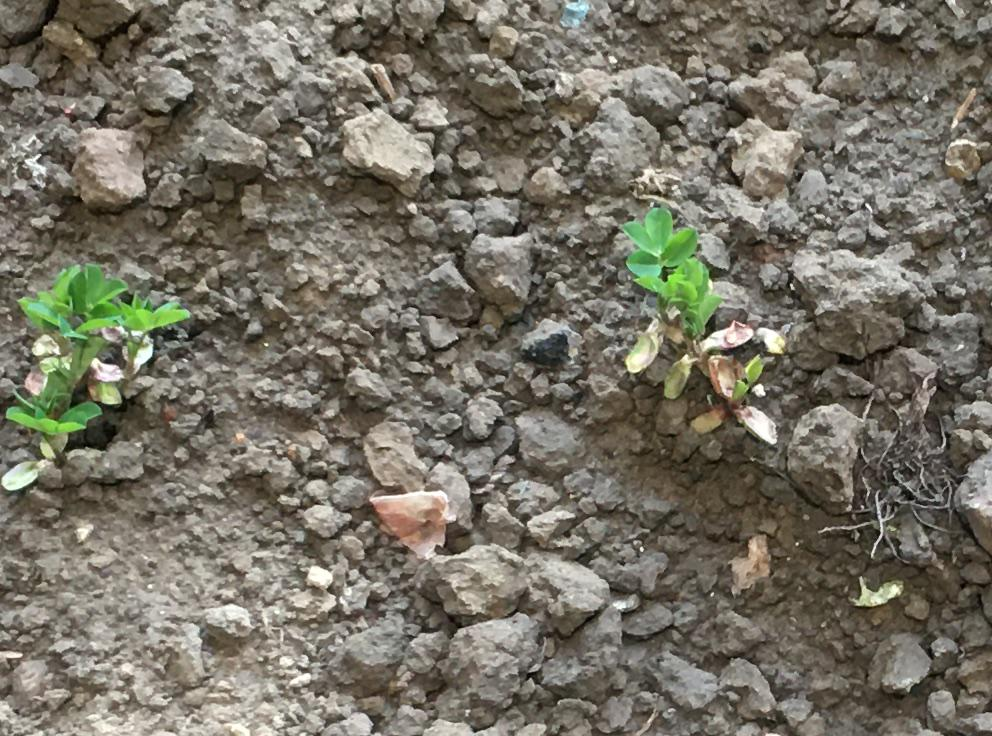block: (787, 248, 929, 356), (791, 400, 867, 510), (410, 544, 528, 613), (67, 123, 152, 213), (340, 107, 430, 192), (525, 556, 604, 633), (453, 619, 530, 697)
